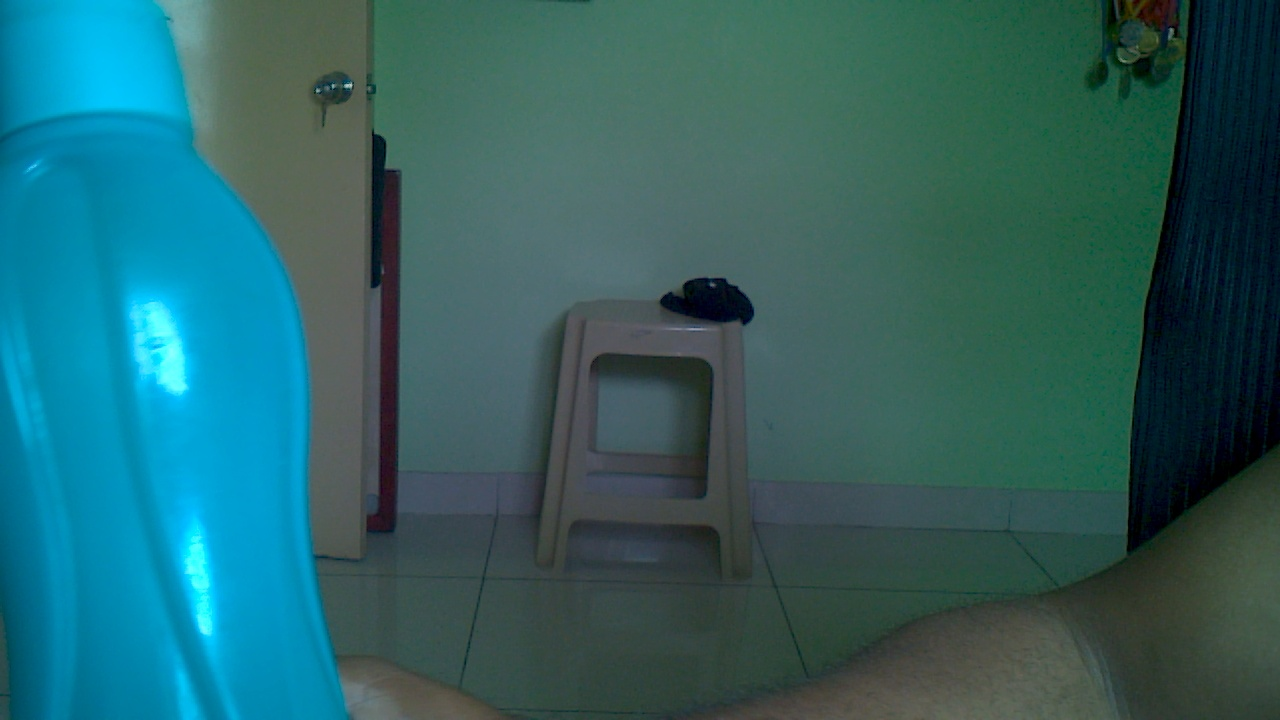bottle: (1, 1, 386, 720)
